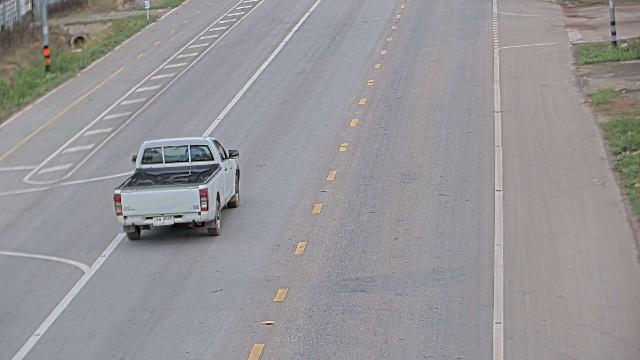pickup-truck: (112, 135, 241, 240)
